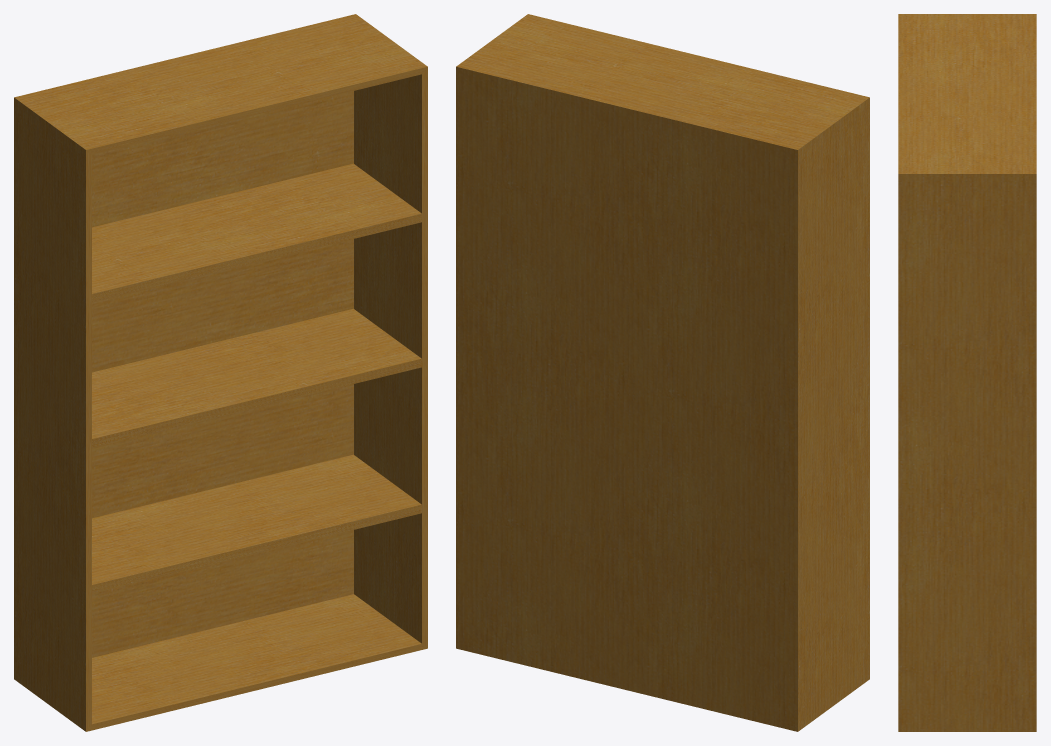
Rendered from Shelves.fbx.
3 renders of one model, left to right at view 1: azimuth 30°, elevation 25°; view 2: azimuth 150°, elevation 25°; view 3: azimuth 270°, elevation 25°, orthographic. The views are drawn at different scales.
Visible parts, largest first — view 1: Shelves; view 2: Shelves; view 3: Shelves.
Boxes of the visible parts, box(x1,y1,x2,y2) form: Shelves: box(14, 14, 427, 731); Shelves: box(456, 14, 869, 731); Shelves: box(898, 14, 1036, 731).
Bounding box in the file's own units: 1.23 × 2 × 0.4486.
